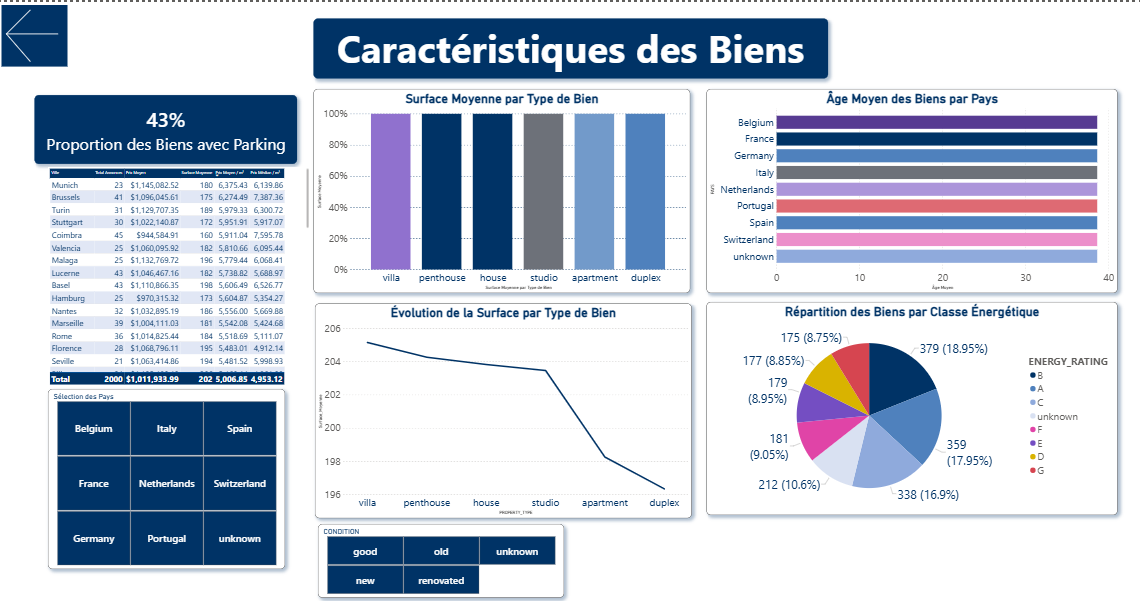

What the dashboard file says about the page in this screenshot:
{"tool":"powerbi","page":{"name":"Caractéristiques des Biens","canvas":[3800,2000],"ordinal":2},"visuals":[{"type":"slicer","fields":{"Values":["DIM_PROPERTY.CONDITION"]},"box":[1060,1740,820,245],"z":0},{"type":"hundredPercentStackedColumnChart","title":"Surface Moyenne par Type de Bien","fields":{"Category":["DIM_PROPERTY.PROPERTY_TYPE"],"Y":["_Measures.Surface_Moyenne"]},"box":[1045,290,1255,680],"z":1000},{"type":"barChart","title":"Âge Moyen des Biens par Pays","fields":{"Category":["DIM_LOCATION.COUNTRY"],"Y":["_Measures.Age_Moyen"]},"box":[2355,290,1370,680],"z":2000},{"type":"cardVisual","fields":{"Data":["_Measures.Proportion_Parking"]},"box":[115,310,875,230],"z":3000},{"type":"lineChart","title":"Évolution de la Surface par Type de Bien","fields":{"Category":["DIM_PROPERTY.PROPERTY_TYPE"],"Y":["_Measures.Surface_Moyenne"]},"box":[1050,1005,1255,715],"z":4000},{"type":"pieChart","title":"Répartition des Biens par Classe Énergétique","fields":{"Category":["DIM_FEATURES.ENERGY_RATING"],"Y":["_Measures.Total_Annonces"]},"box":[2355,1000,1370,710],"z":5000},{"type":"tableEx","fields":{"Values":["DIM_LOCATION.CITY","_Measures.Total_Annonces","_Measures.Prix_Moyen","_Measures.Surface_Moyenne","_Measures.Prix_Moyen_m2","_Measures.Prix_Median_m2"]},"box":[160,550,875,730],"z":6000},{"type":"textbox","box":[1045,55,1715,200],"z":7000},{"type":"actionButton","box":[5,10,220,205],"z":8000},{"type":"slicer","fields":{"Values":["DIM_LOCATION.COUNTRY"]},"box":[160,1290,790,600],"z":9000}]}

Visuals, with their boxes in screenshot pixels (x1, y1, x2, y2), scaled from the page's 3800x2000 canvas onto the 1140x601 screenshot:
slicer - DIM_PROPERTY.CONDITION: (left=318, top=523, right=564, bottom=596)
"Surface Moyenne par Type de Bien" hundredPercentStackedColumnChart: (left=314, top=87, right=690, bottom=291)
"Âge Moyen des Biens par Pays" barChart: (left=706, top=87, right=1118, bottom=291)
cardVisual - _Measures.Proportion_Parking: (left=34, top=93, right=297, bottom=162)
"Évolution de la Surface par Type de Bien" lineChart: (left=315, top=302, right=692, bottom=517)
"Répartition des Biens par Classe Énergétique" pieChart: (left=706, top=300, right=1118, bottom=514)
tableEx - DIM_LOCATION.CITY x _Measures.Total_Annonces: (left=48, top=165, right=310, bottom=385)
textbox: (left=314, top=17, right=828, bottom=77)
actionButton: (left=2, top=3, right=68, bottom=65)
slicer - DIM_LOCATION.COUNTRY: (left=48, top=388, right=285, bottom=568)
